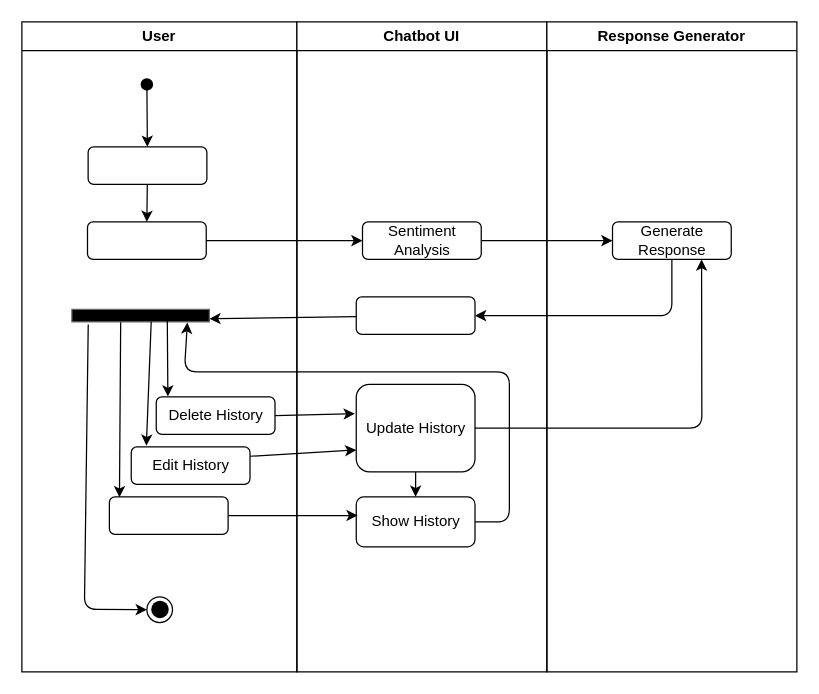
The diagram is 819 pixels wide and 694 high, and some of its shapes have lost their labels. Each missing label, with the centre of its shape:
Enter Message: the point at 146,240
Login: the point at 147,165
Show Response: the point at 415,315
View History: the point at 168,515
